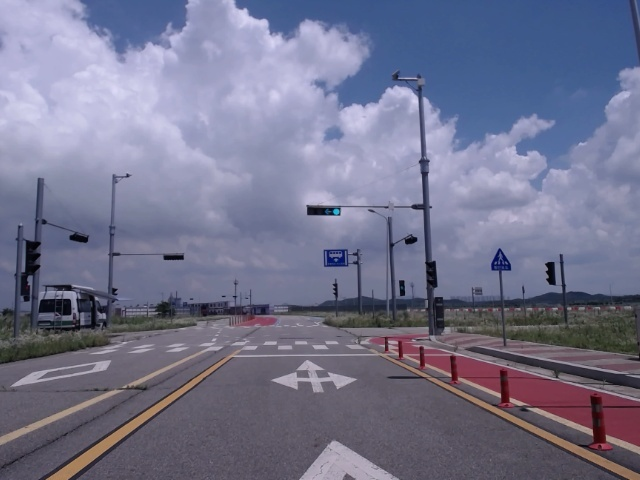all_green_4: (307, 205, 341, 217)
